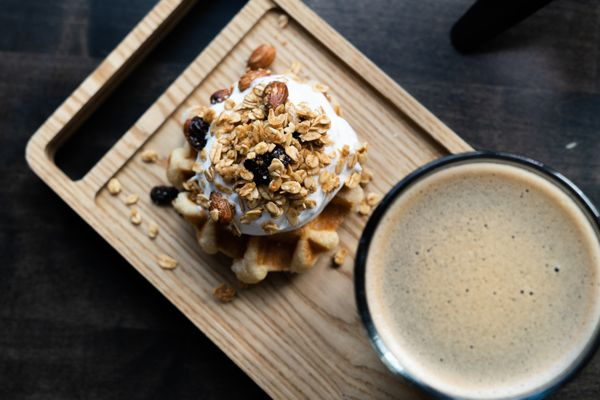sushi: (353, 151, 600, 395)
